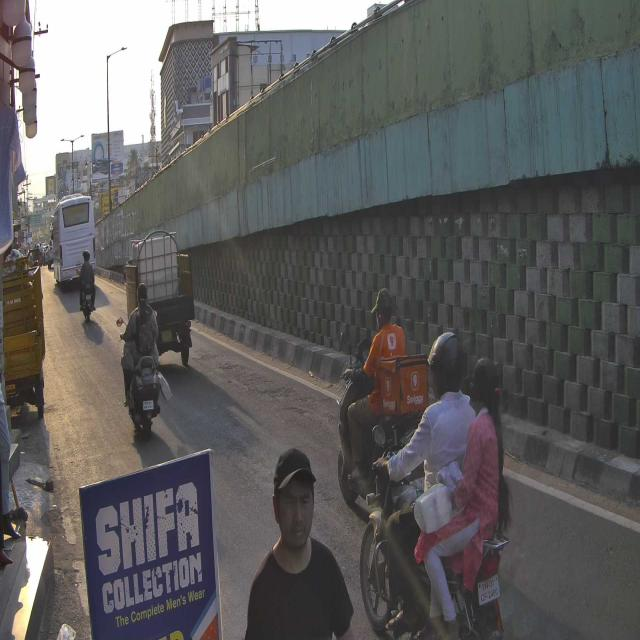double_rider: (410, 309, 511, 640)
single_rider: (335, 286, 406, 499)
